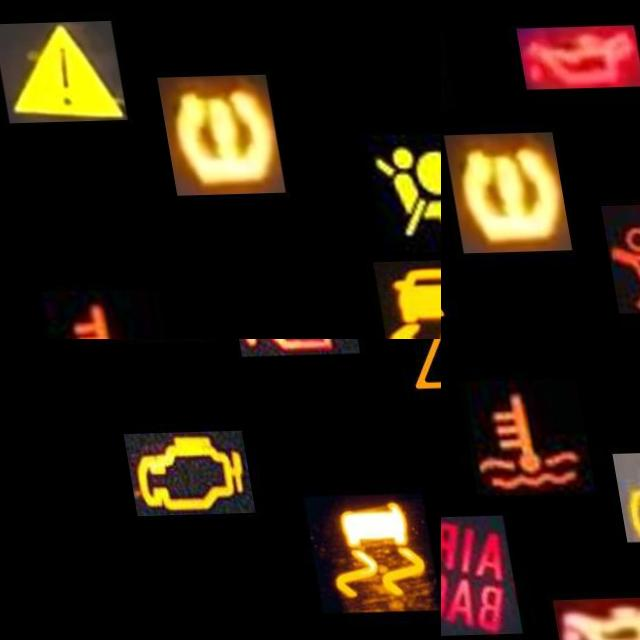Central Warning lamp: (0, 21, 123, 123), (377, 339, 441, 409)
Engine cooling system: (449, 381, 582, 499), (29, 289, 162, 339)
